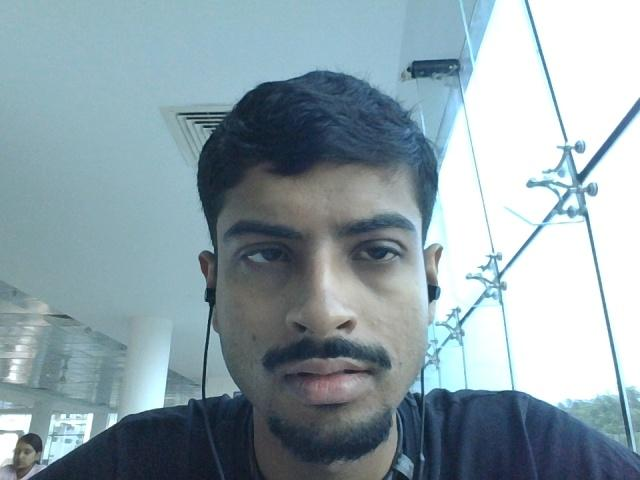confident: (163, 70, 501, 464)
